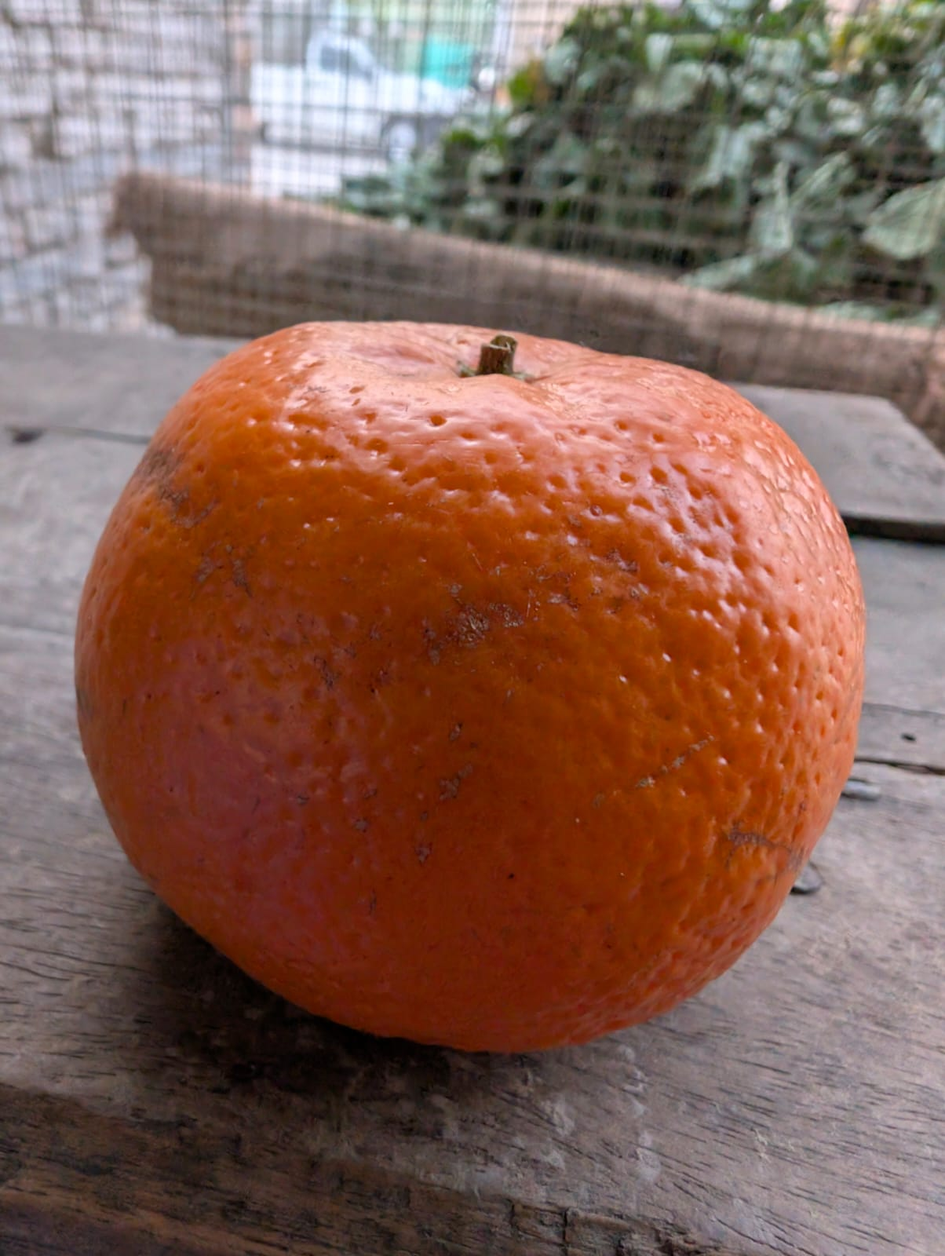orange: (52, 124, 865, 1106)
